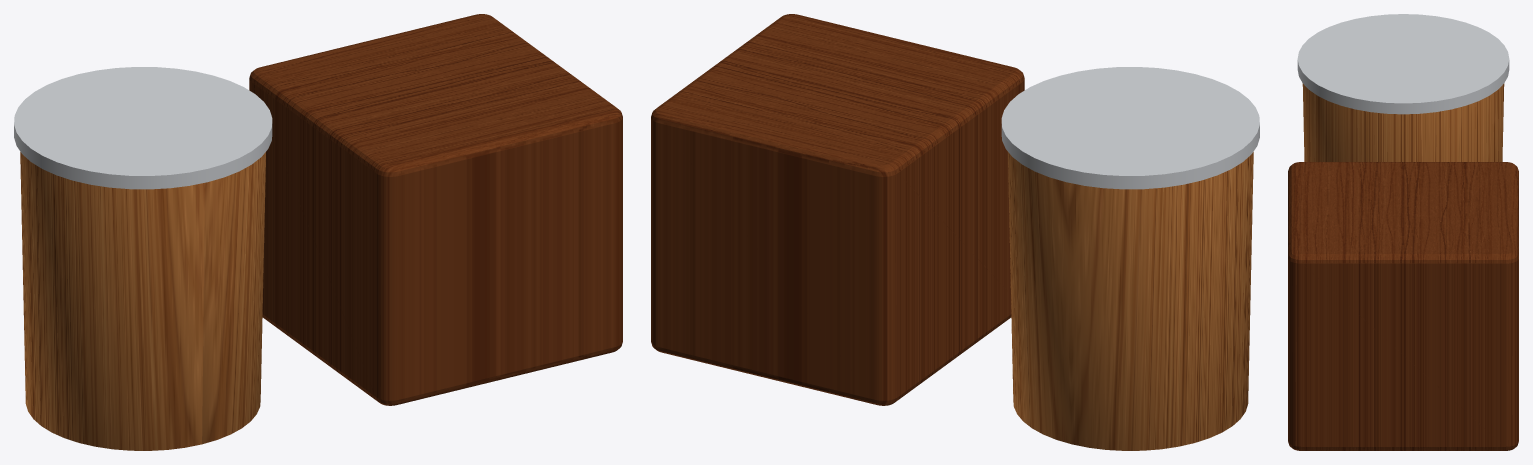
The model's file is MAD-03.glb.
3 renders of one model, left to right at view 1: azimuth 30°, elevation 25°; view 2: azimuth 150°, elevation 25°; view 3: azimuth 270°, elevation 25°, orthographic. The views are drawn at different scales.
Size of the model in its own units: 0.207 by 0.105 by 0.096.
3 materials, 2 textured.
